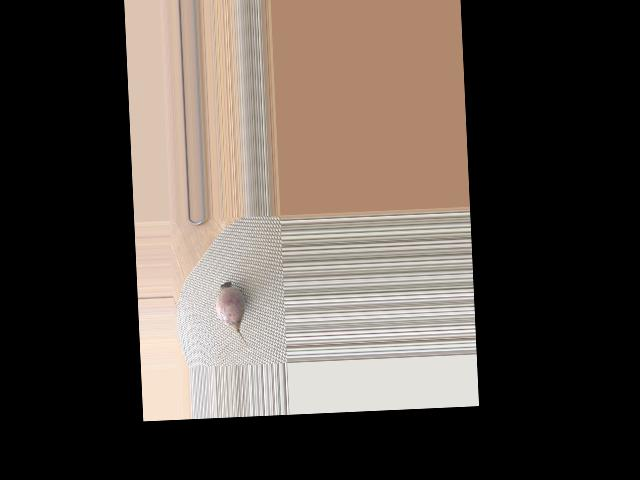beet: (214, 280, 253, 353)
